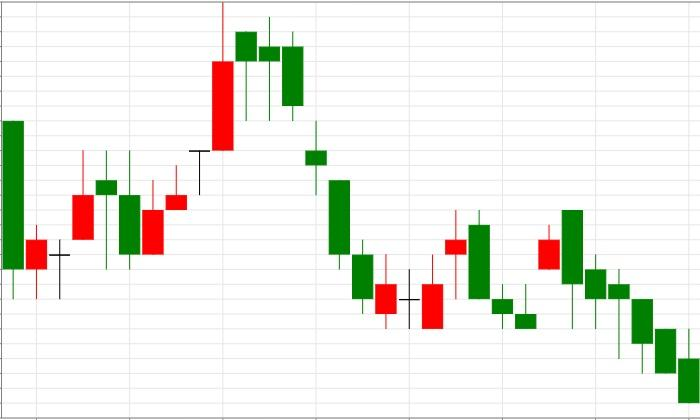hanging_man_fall: (142, 3, 256, 255)
